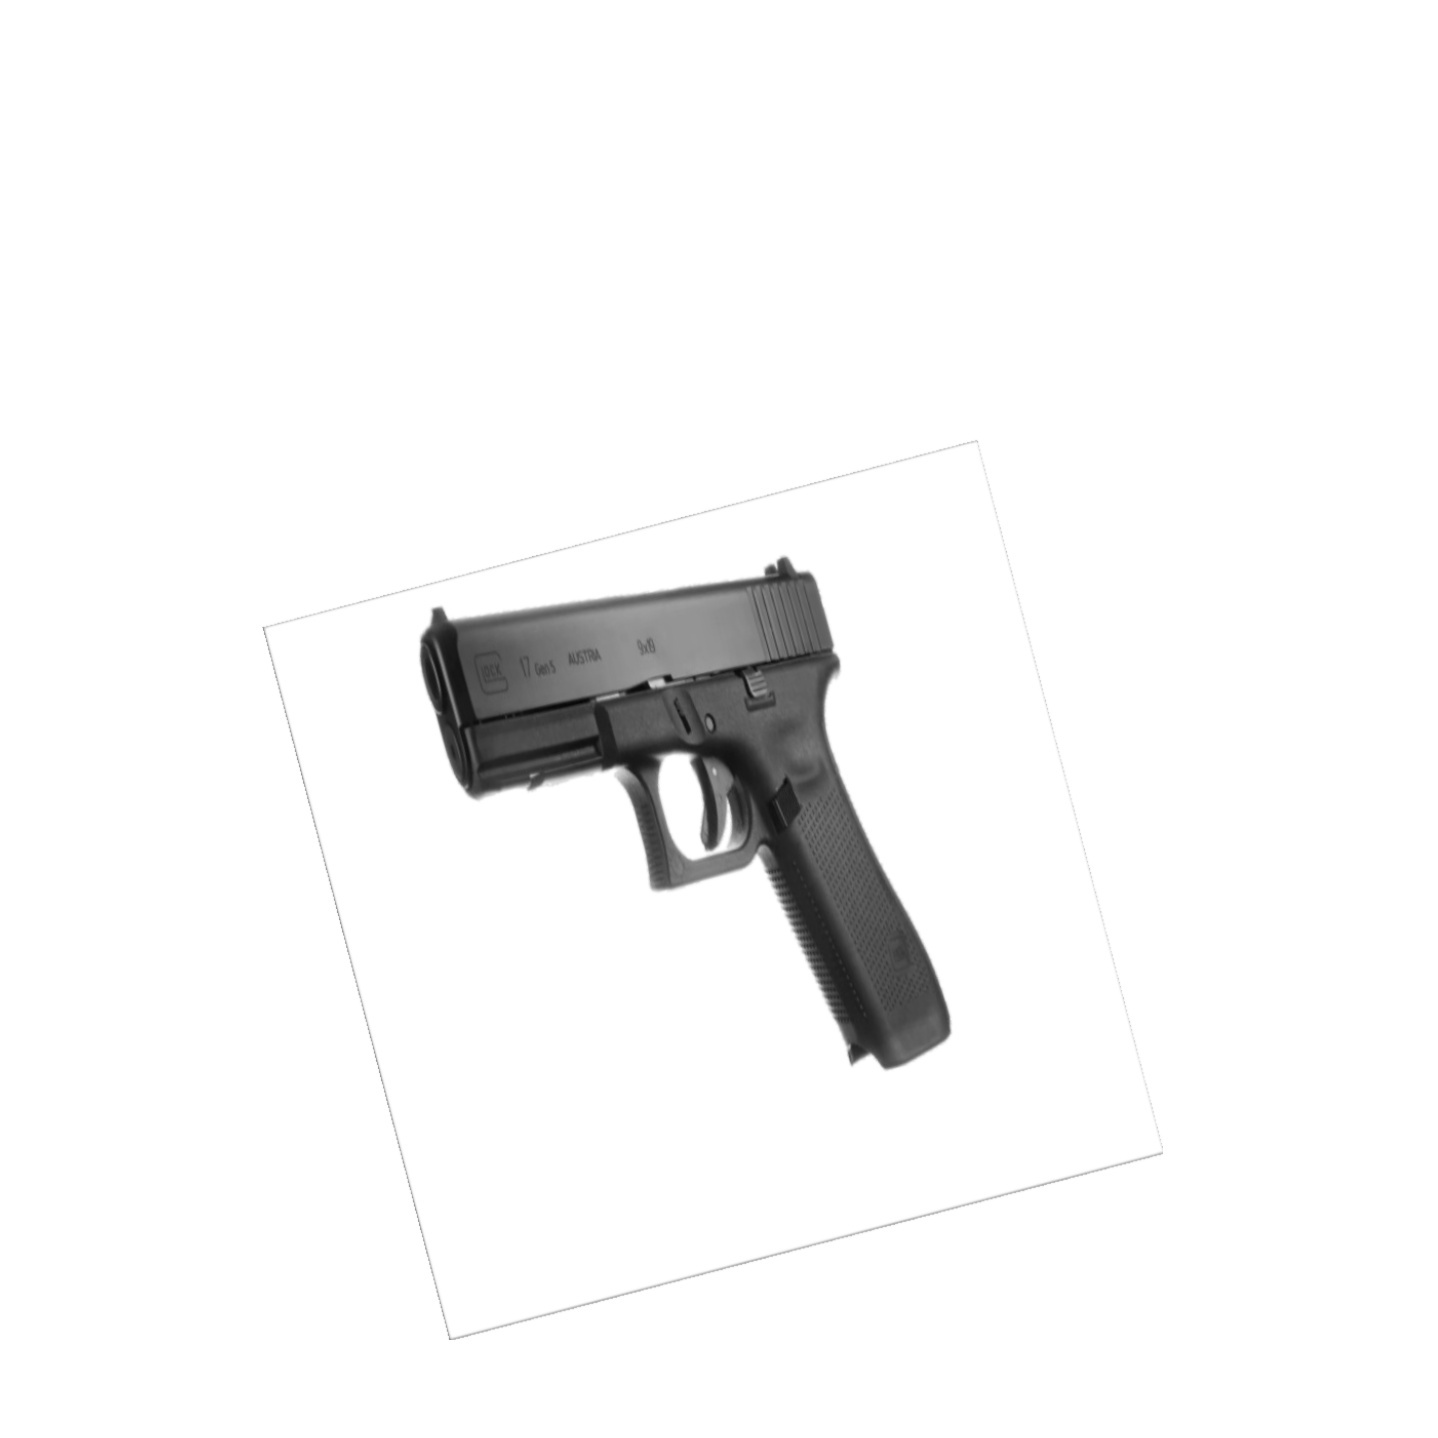gun: (417, 556, 949, 1071)
